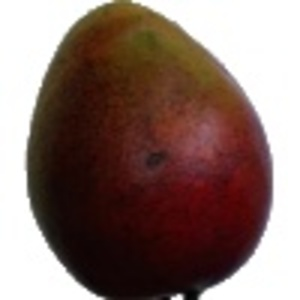manga: (25, 1, 274, 300)
